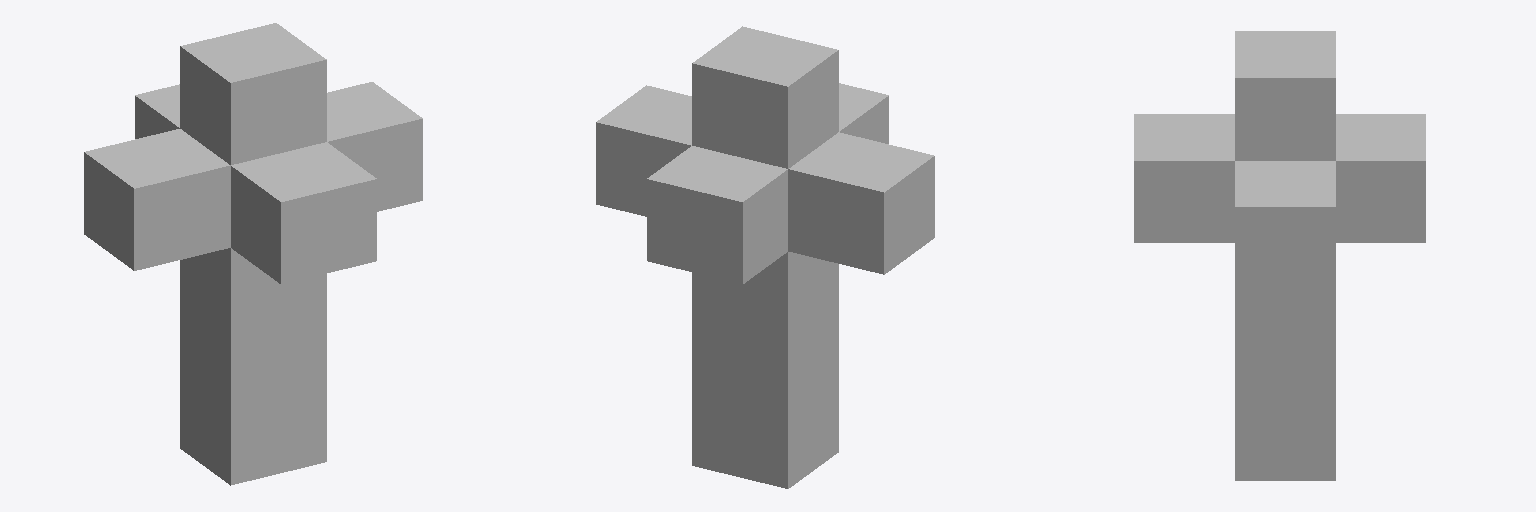
The model's file is Tree.obj.
3 views of the same model, side by side, from view 1: azimuth 30°, elevation 25°; view 2: azimuth 150°, elevation 25°; view 3: azimuth 270°, elevation 25° (orthographic).
Parts seen in each view (by area): view 1: Leaves, Log; view 2: Leaves, Log; view 3: Leaves, Log.
Boxes of the visible parts, box(x1,y1,x2,y2) form: Leaves: box(84, 23, 422, 284); Log: box(180, 248, 326, 485); Leaves: box(596, 26, 934, 284); Log: box(692, 252, 838, 488); Leaves: box(1134, 31, 1425, 289); Log: box(1235, 290, 1335, 480).
Size of the model in its own units: 2.06 by 2.75 by 1.81.